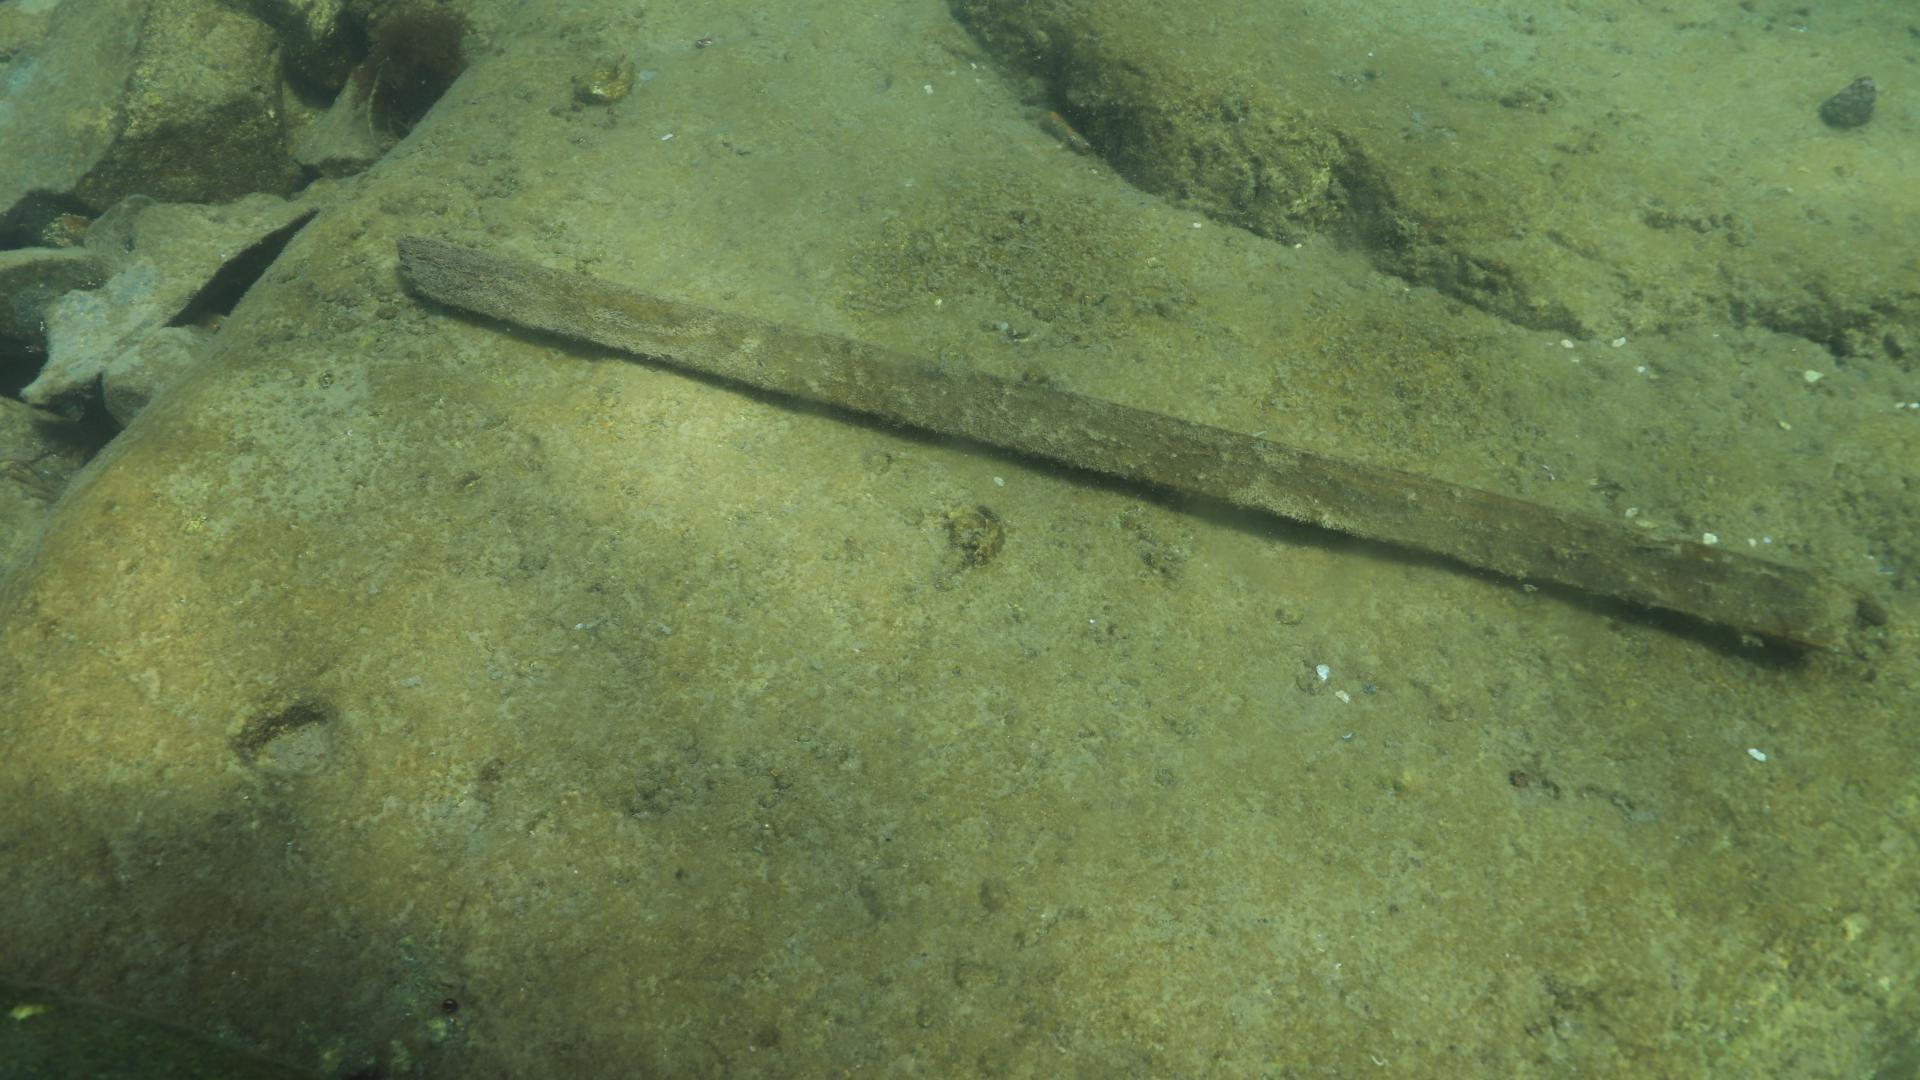wood: (390, 225, 1859, 667)
